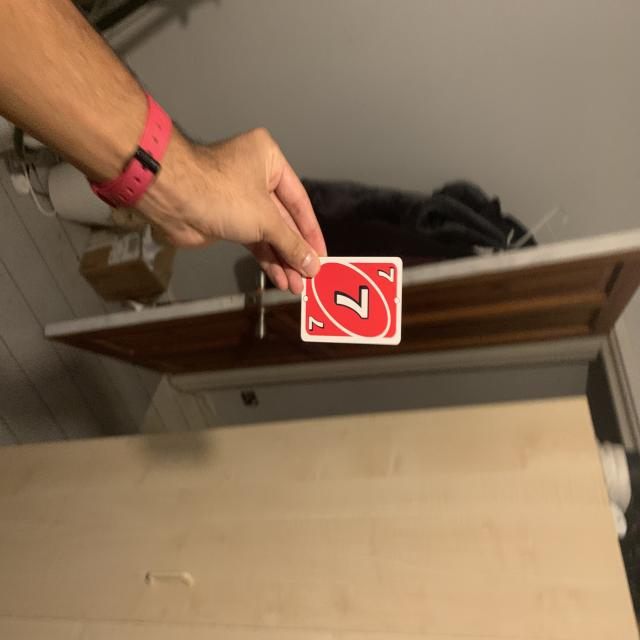lred-7: (376, 262, 398, 286)
